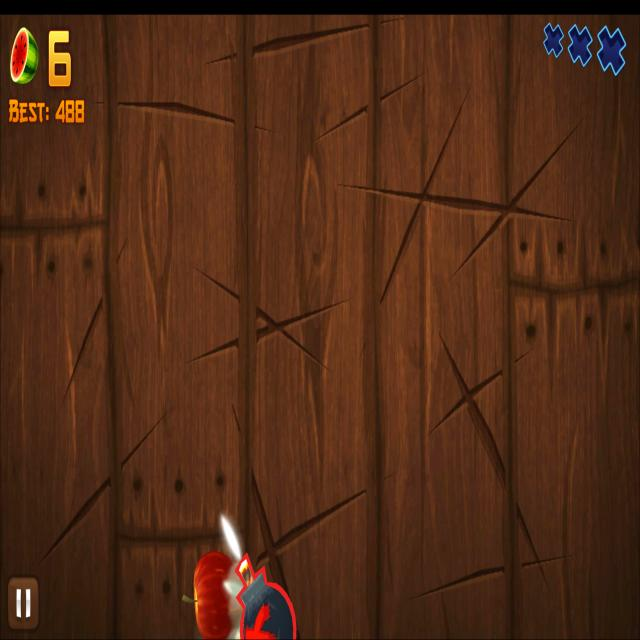bomb: (236, 552, 296, 640)
fruit: (195, 550, 235, 640)
